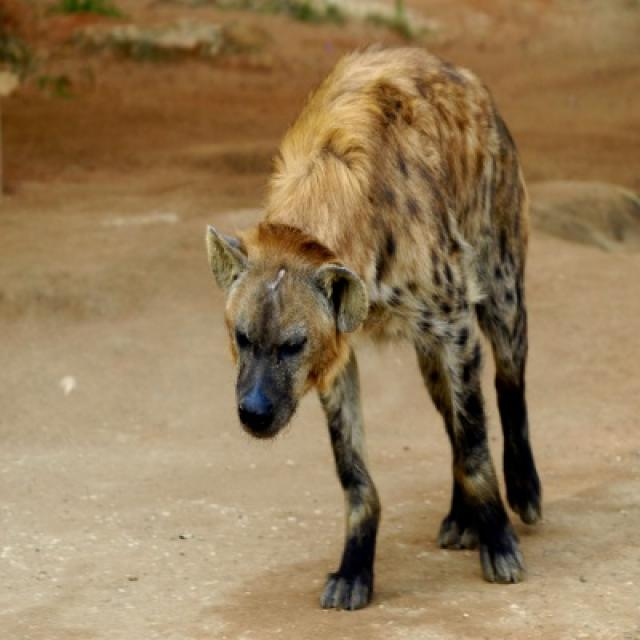hyena: (208, 46, 546, 613)
